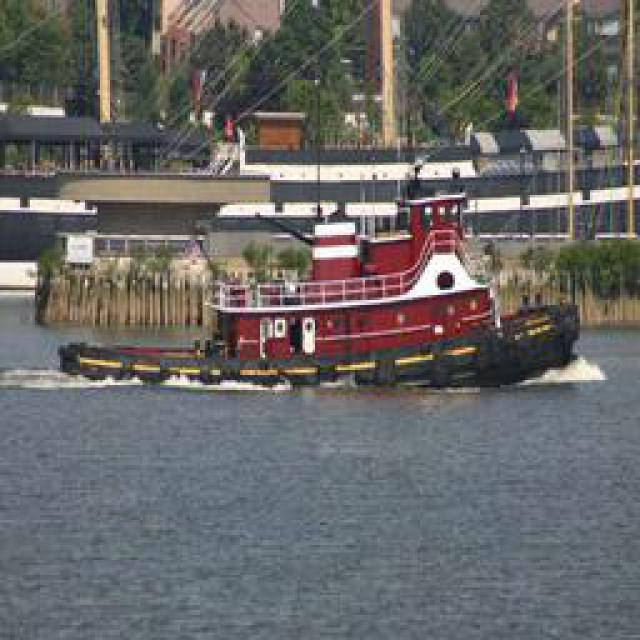Ship: (50, 191, 593, 398)
